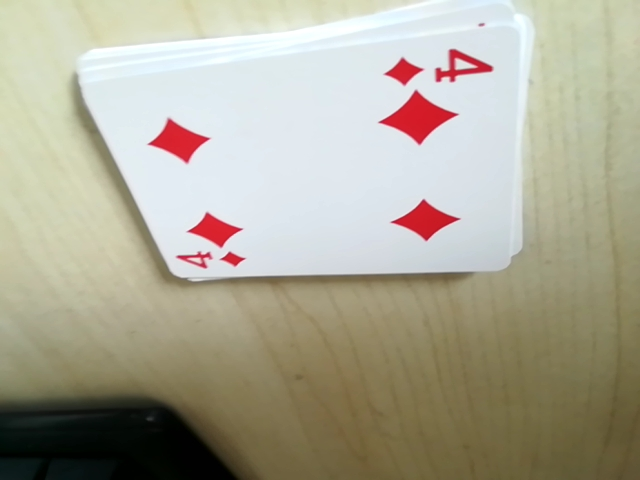fk 4: (380, 35, 503, 92), (168, 242, 252, 278)
